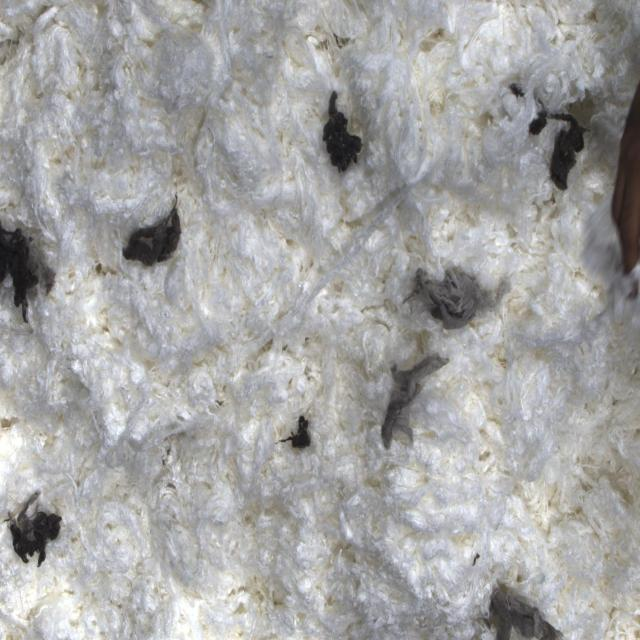dust: (580, 33, 639, 341), (408, 257, 512, 334), (382, 346, 449, 455), (0, 485, 73, 577), (476, 568, 569, 640), (0, 218, 59, 317), (107, 199, 184, 271), (527, 101, 584, 193), (317, 82, 368, 177), (278, 408, 312, 463)
